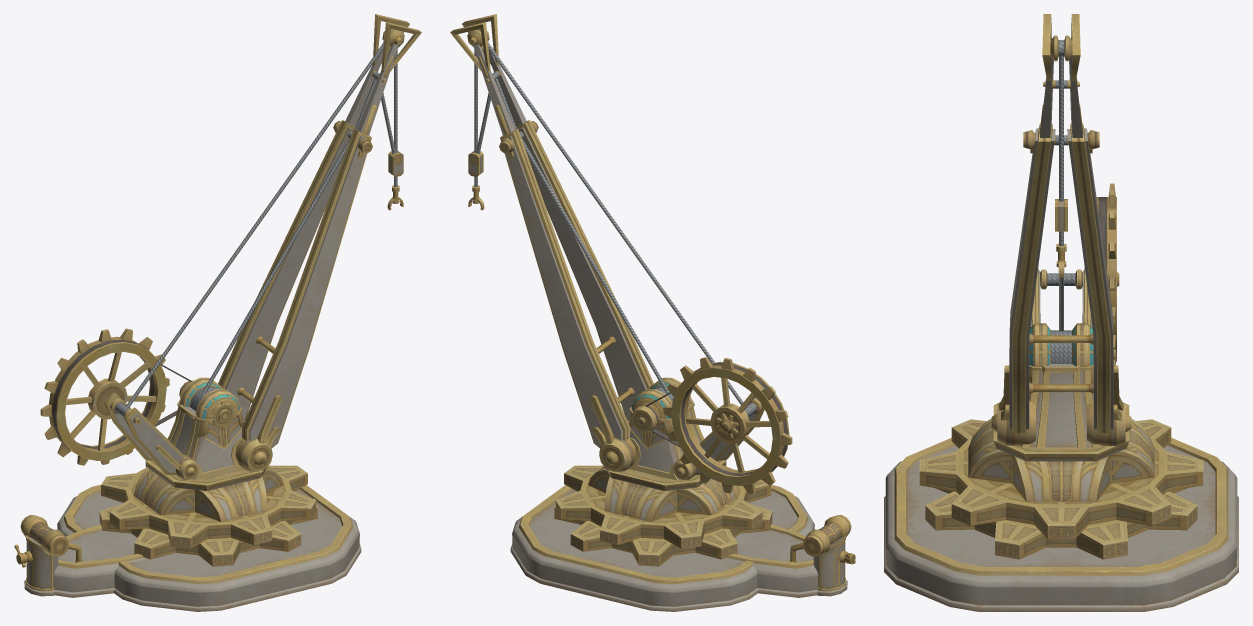
File: Homeworld_Exterior_Fd_Build_Prop_Qizhongji_01_Lod0.fbx
3 views of the same model, side by side, from view 1: azimuth 30°, elevation 25°; view 2: azimuth 150°, elevation 25°; view 3: azimuth 270°, elevation 25° (orthographic). The views are drawn at different scales.
Visible parts, largest first — view 1: Area_Fd_Prop_Common_Qizhongji_01_Lod0, Area_Fd_Prop_Common_Qizhongji_02_Lod0; view 2: Area_Fd_Prop_Common_Qizhongji_01_Lod0, Area_Fd_Prop_Common_Qizhongji_02_Lod0; view 3: Area_Fd_Prop_Common_Qizhongji_01_Lod0, Area_Fd_Prop_Common_Qizhongji_02_Lod0.
Boxes of the visible parts, left/top/right/bottom form: Area_Fd_Prop_Common_Qizhongji_01_Lod0: left=40, top=14, right=421, bottom=566; Area_Fd_Prop_Common_Qizhongji_02_Lod0: left=14, top=465, right=361, bottom=611; Area_Fd_Prop_Common_Qizhongji_01_Lod0: left=450, top=14, right=792, bottom=566; Area_Fd_Prop_Common_Qizhongji_02_Lod0: left=510, top=465, right=855, bottom=611; Area_Fd_Prop_Common_Qizhongji_01_Lod0: left=919, top=14, right=1203, bottom=559; Area_Fd_Prop_Common_Qizhongji_02_Lod0: left=884, top=438, right=1238, bottom=611.
Size of what is drawn, in the model's own units: 17.87 by 20.98 by 10.65.
1 material, 1 textured.
